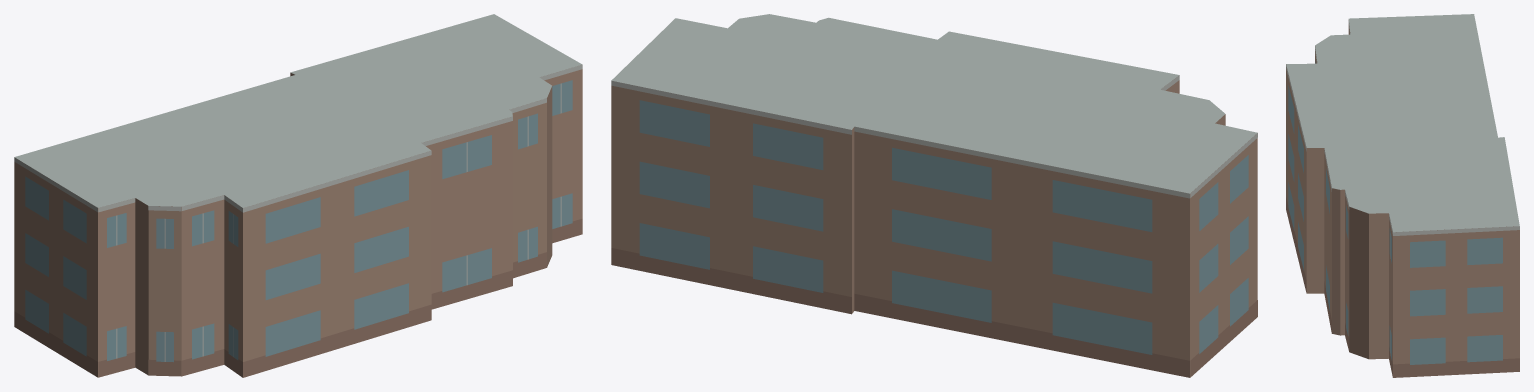
File: survey-upis-32651189.glb
3 renders of one model, left to right at view 1: azimuth 30°, elevation 25°; view 2: azimuth 150°, elevation 25°; view 3: azimuth 270°, elevation 25°, orthographic. The views are drawn at different scales.
Visible parts, largest first — view 1: survey-upis-32651189.tmp; view 2: survey-upis-32651189.tmp; view 3: survey-upis-32651189.tmp.
Part boxes in pixels (left/top/right/bottom): survey-upis-32651189.tmp: left=14, top=14, right=582, bottom=377; survey-upis-32651189.tmp: left=611, top=14, right=1257, bottom=377; survey-upis-32651189.tmp: left=1286, top=14, right=1519, bottom=377.
Size of the model in its own units: 29.41 by 9.15 by 13.32.
